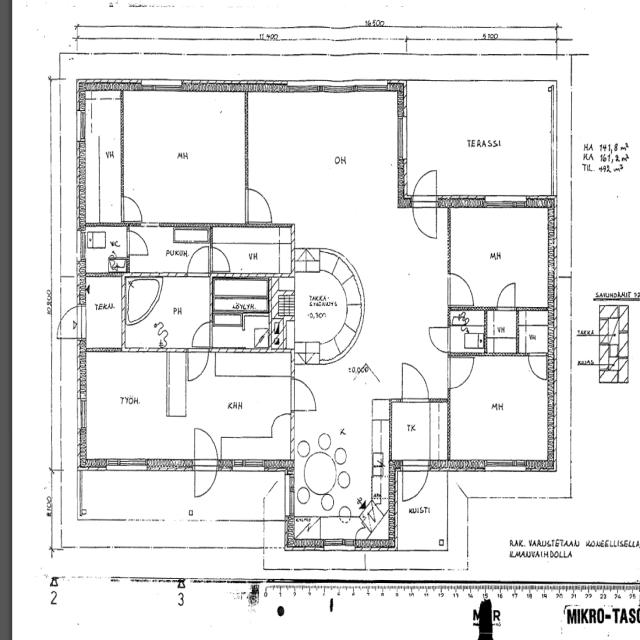door: (410, 168, 440, 240), (397, 356, 432, 404), (399, 458, 430, 504), (191, 423, 219, 470), (446, 268, 478, 308), (289, 374, 320, 414), (245, 183, 275, 224), (446, 352, 476, 390), (493, 278, 520, 312), (193, 462, 217, 499), (185, 348, 210, 382), (425, 322, 451, 354), (186, 243, 211, 275), (268, 409, 294, 438), (126, 228, 151, 258), (120, 192, 144, 223), (210, 242, 233, 274), (526, 350, 548, 381), (190, 318, 212, 349)
window: (394, 111, 410, 166), (484, 194, 530, 212), (482, 458, 526, 474), (142, 78, 183, 94), (106, 457, 146, 472), (322, 536, 354, 552), (76, 390, 88, 431), (75, 108, 86, 142)
zone: (246, 90, 404, 228), (120, 90, 248, 227), (448, 351, 554, 465), (181, 352, 293, 448), (448, 205, 552, 308), (80, 349, 173, 462), (277, 268, 351, 354), (135, 274, 211, 347), (212, 225, 296, 277), (389, 398, 449, 464), (81, 274, 126, 350), (80, 224, 128, 274), (125, 274, 162, 326), (448, 309, 486, 354), (516, 308, 551, 353), (484, 308, 518, 354), (58, 304, 84, 339)
